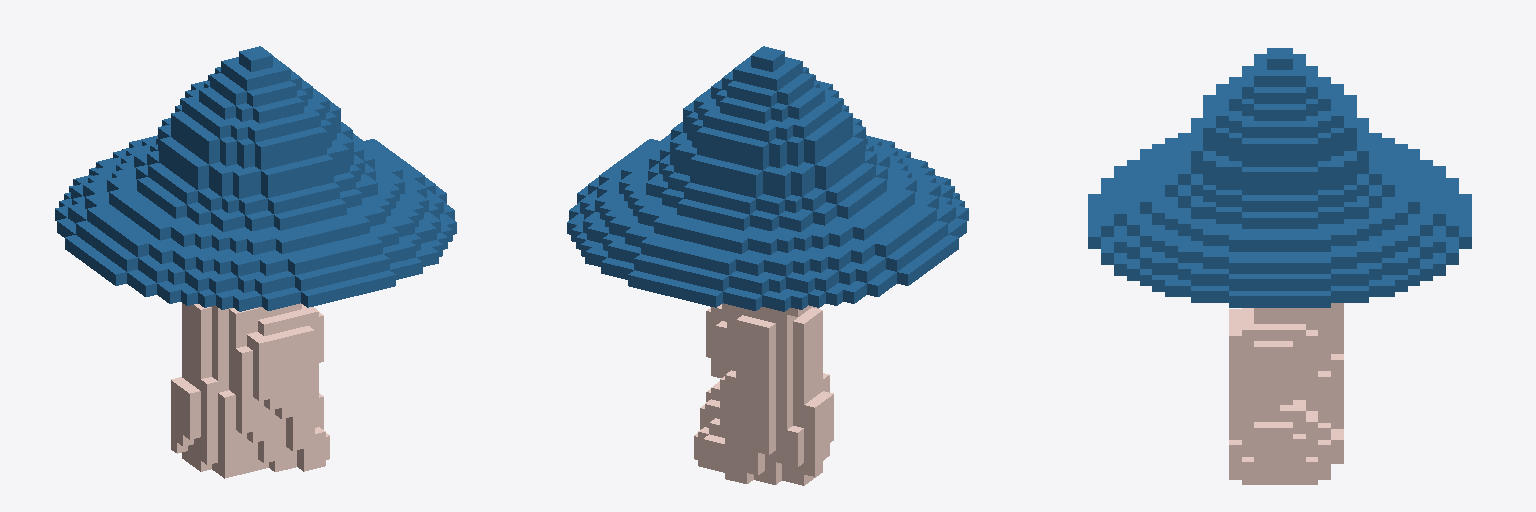
3 renders of one model, left to right at view 1: azimuth 30°, elevation 25°; view 2: azimuth 150°, elevation 25°; view 3: azimuth 270°, elevation 25°, orthographic.
Visible parts, largest first — view 1: Shroom5; view 2: Shroom5; view 3: Shroom5.
Boxes of the visible parts, x1,y1,x2,y2 form: Shroom5: [55, 46, 456, 478]; Shroom5: [567, 46, 968, 485]; Shroom5: [1088, 48, 1471, 484].
Size of the model in its own units: 30 by 35 by 30.
Materials: 1 (1 with a texture image).